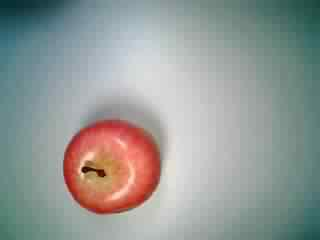apple: (59, 112, 164, 216)
